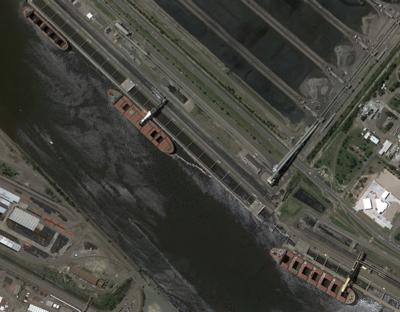Ships: (43, 132, 64, 161)
